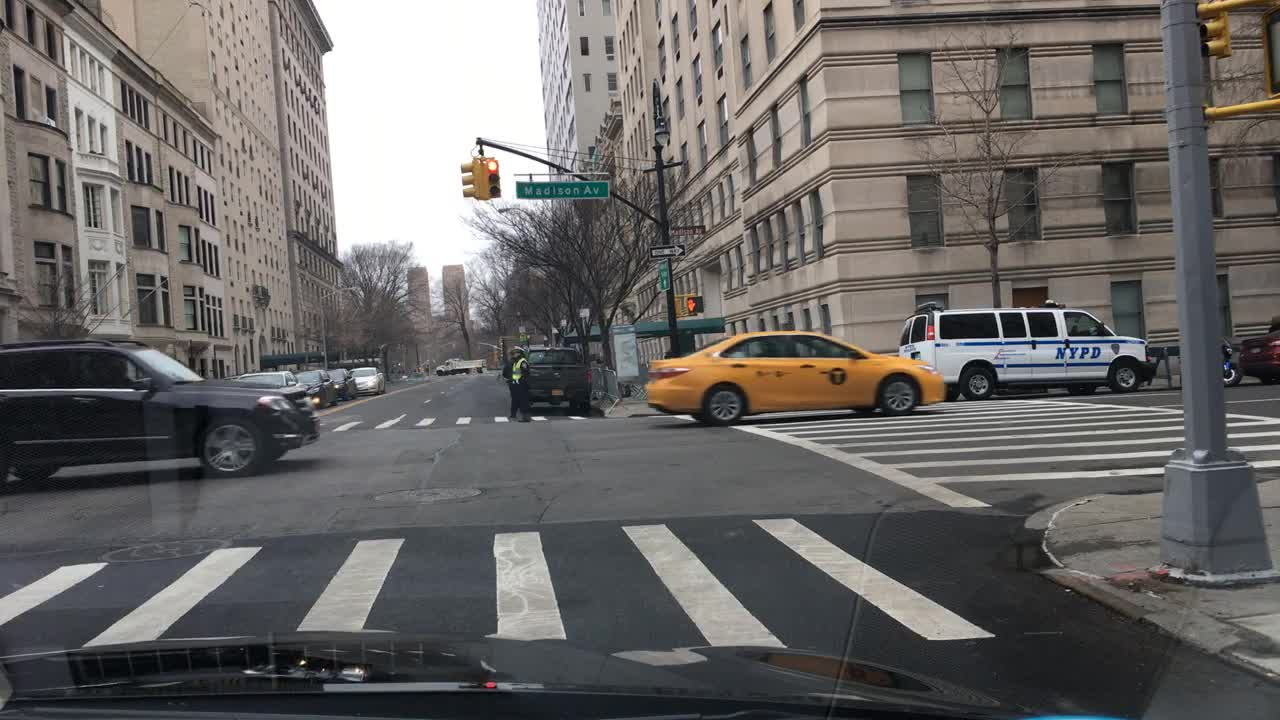car: (0, 337, 322, 480), (643, 327, 947, 427), (899, 297, 1157, 399), (521, 342, 599, 416), (233, 372, 306, 400), (1243, 330, 1279, 384), (300, 371, 334, 408), (352, 367, 386, 395), (329, 366, 351, 397)
motor: (1219, 337, 1238, 385)
person: (503, 344, 530, 418), (1263, 313, 1279, 335)
traffic light: (1193, 0, 1236, 59), (1259, 6, 1278, 99), (484, 158, 501, 198), (462, 157, 478, 199), (676, 295, 707, 315)
traffic sign: (514, 181, 610, 201), (655, 257, 672, 293), (649, 244, 686, 257), (671, 224, 708, 234)
truck: (434, 358, 485, 373)
